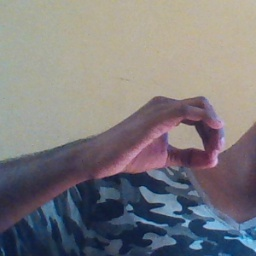O: (102, 84, 230, 187)
